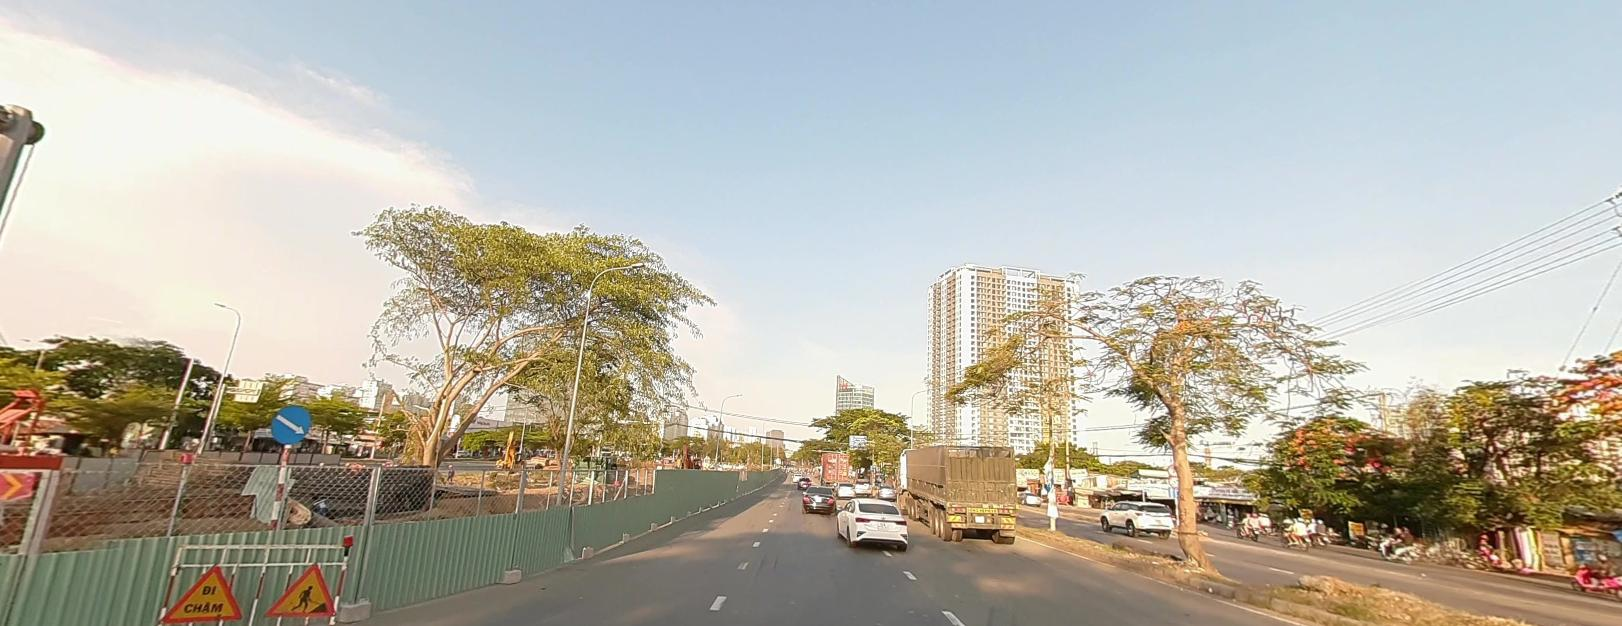Hieu lenh: (269, 403, 311, 442)
Nguy hiem: (158, 564, 243, 623), (263, 561, 336, 617)
